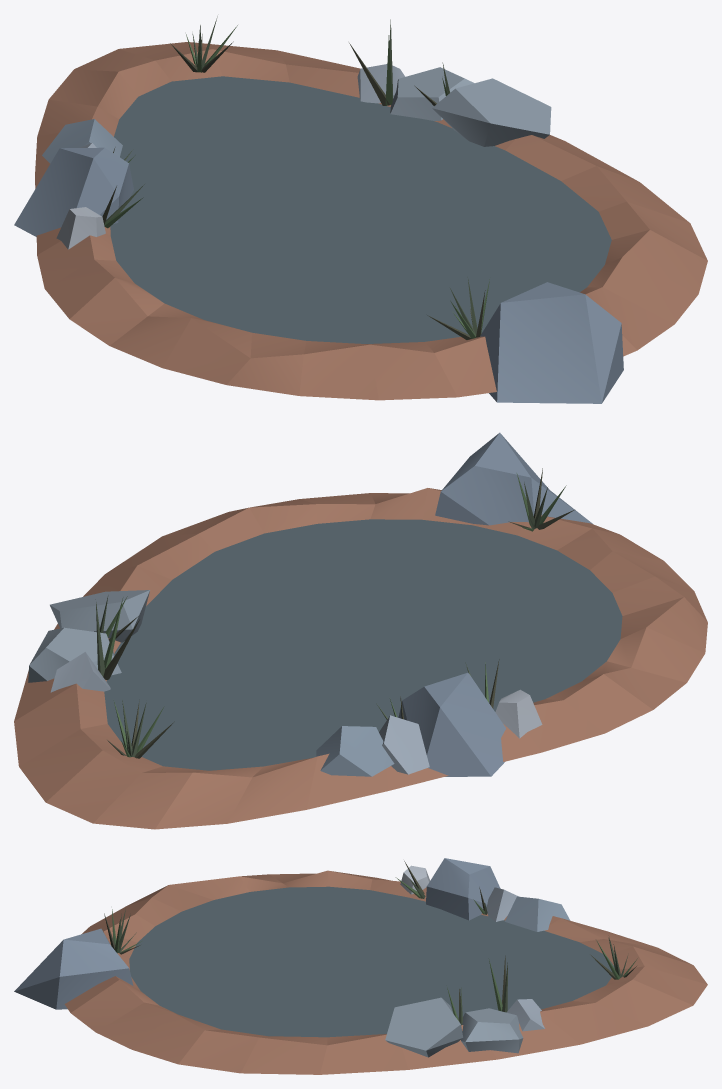
File: scene_transparent.gltf
The picture shows the model from 3 angles, top to bottom: view 1: azimuth 30°, elevation 25°; view 2: azimuth 150°, elevation 25°; view 3: azimuth 270°, elevation 25°; orthographic projection. The views are drawn at different scales.
Visible parts, largest first — view 1: Pond_Texture-base-gloss-jpg_0, Pond_Texture-base_0; view 2: Pond_Texture-base_0, Pond_Texture-base-gloss-jpg_0; view 3: Pond_Texture-base_0, Pond_Texture-base-gloss-jpg_0.
Boxes of the visible parts, bbox=[...] form: Pond_Texture-base-gloss-jpg_0: bbox=[110, 76, 611, 343]; Pond_Texture-base_0: bbox=[14, 16, 707, 403]; Pond_Texture-base_0: bbox=[14, 432, 707, 829]; Pond_Texture-base-gloss-jpg_0: bbox=[104, 519, 622, 770]; Pond_Texture-base_0: bbox=[14, 858, 707, 1074]; Pond_Texture-base-gloss-jpg_0: bbox=[129, 886, 614, 1037].
Bounding box in the file's own units: 3.75 × 0.6625 × 5.45.
Materials: 2 (2 with a texture image).
